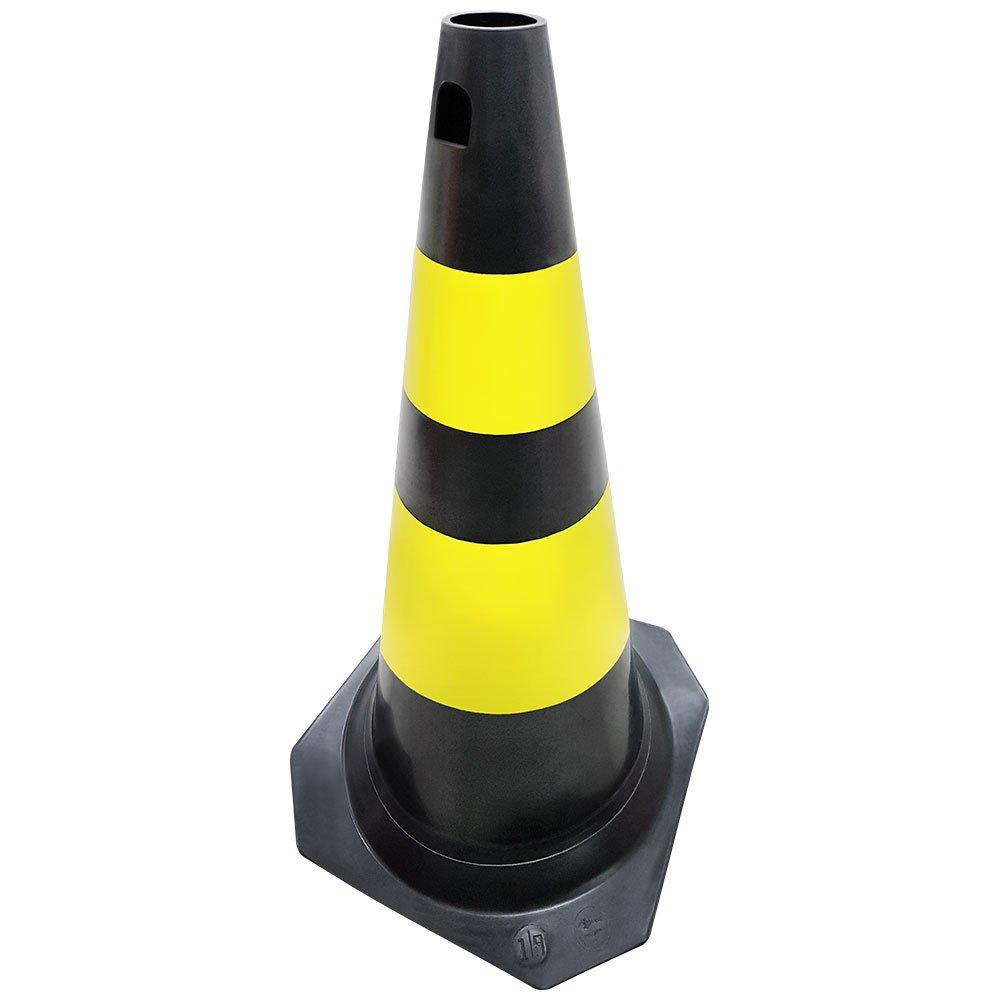traffic_cone: (289, 9, 711, 990)
